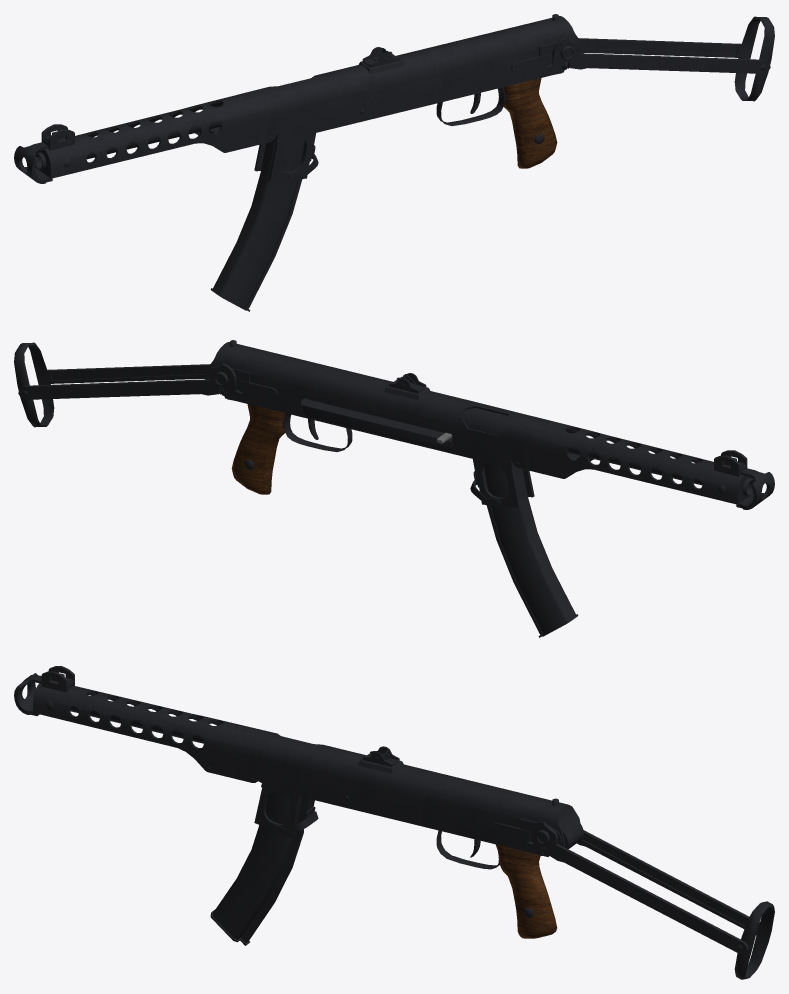
The model's file is pps43.glb.
The picture shows the model from 3 angles, top to bottom: view 1: azimuth 30°, elevation 25°; view 2: azimuth 150°, elevation 25°; view 3: azimuth 330°, elevation 25°; orthographic projection.
Visible parts, largest first — view 1: pps43; view 2: pps43; view 3: pps43.
Boxes of the visible parts, x1=… form: pps43: x1=14, y1=14, x2=774, y2=311; pps43: x1=14, y1=340, x2=774, y2=637; pps43: x1=14, y1=666, x2=774, y2=979.
Bounding box in the file's own units: 0.8515 × 0.25 × 0.059.
Materials: 3 (3 with a texture image).
